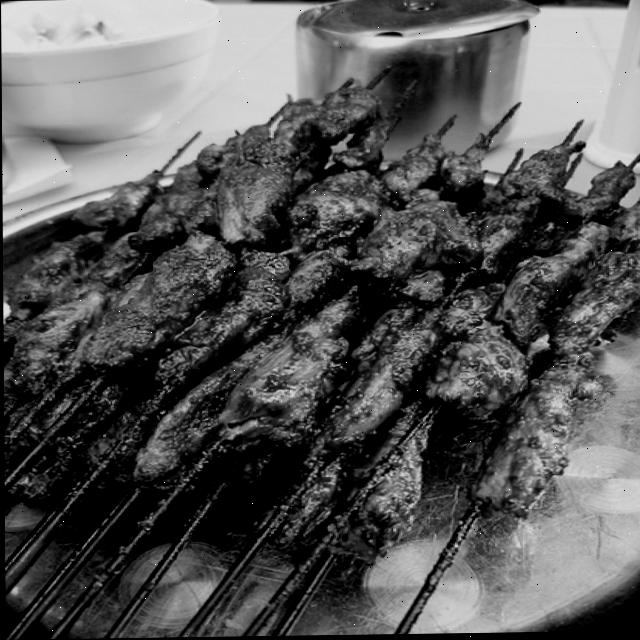烧串烤肉: (5, 68, 619, 619)
